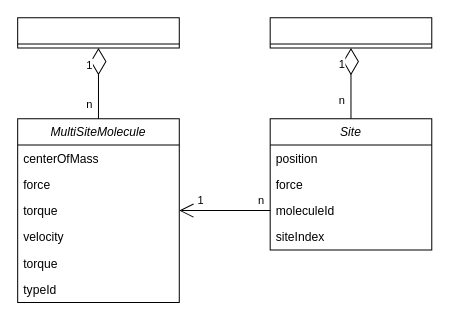
This 449x323 diagram has some shape labels left out. Here are the shapes that lost their labels. From the top down, the centre of each, then its label:
(x=98, y=32): MoleculeContainer
(x=350, y=32): AutoPasContainer
